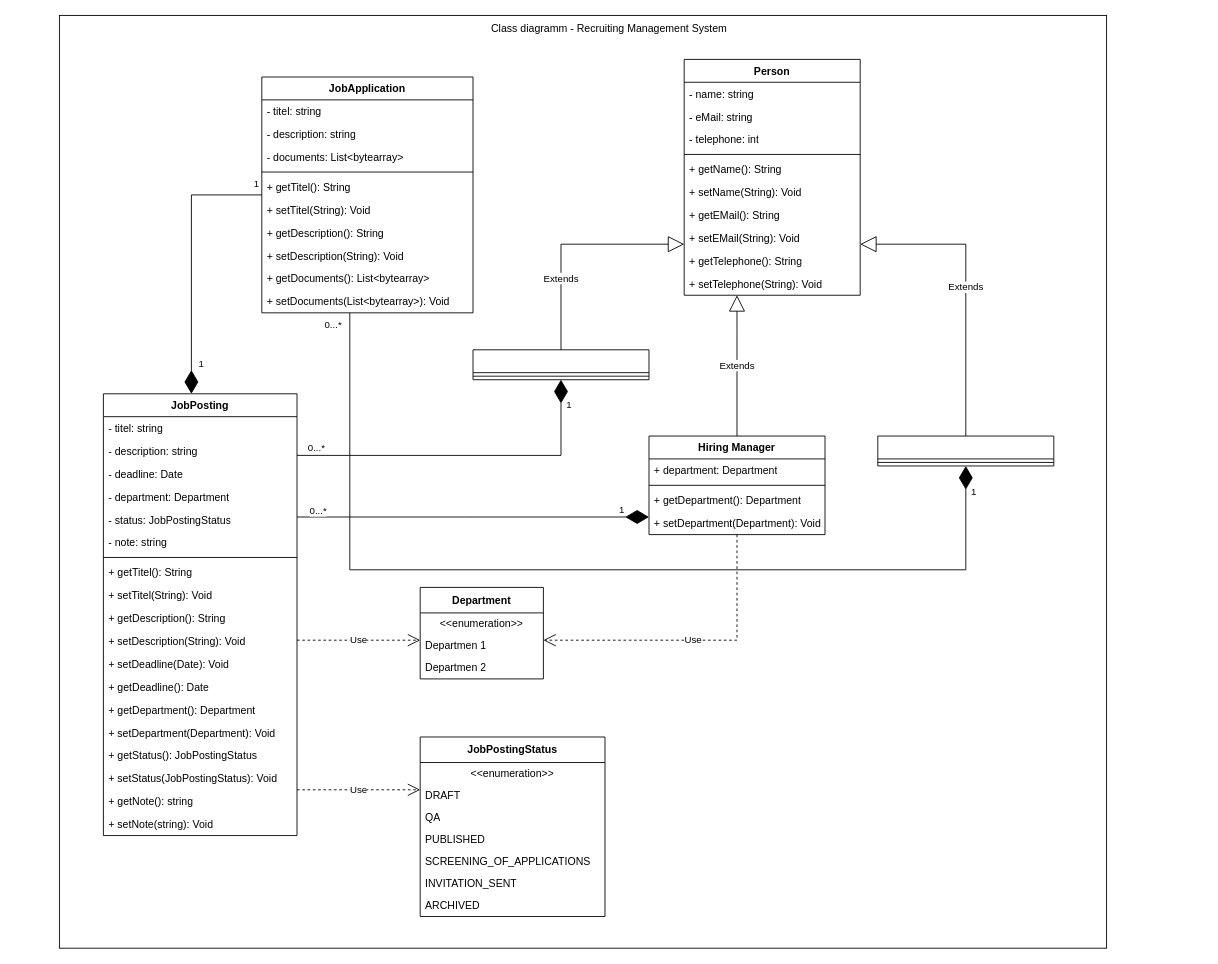
Some shapes in this 1218 by 964 pixel diagram are drawn without their labels. The centre of each missing label's shape, as x and y in pixels:
"Applicant" goes at (x=965, y=450).
"HR Recruiter" goes at (x=560, y=364).
